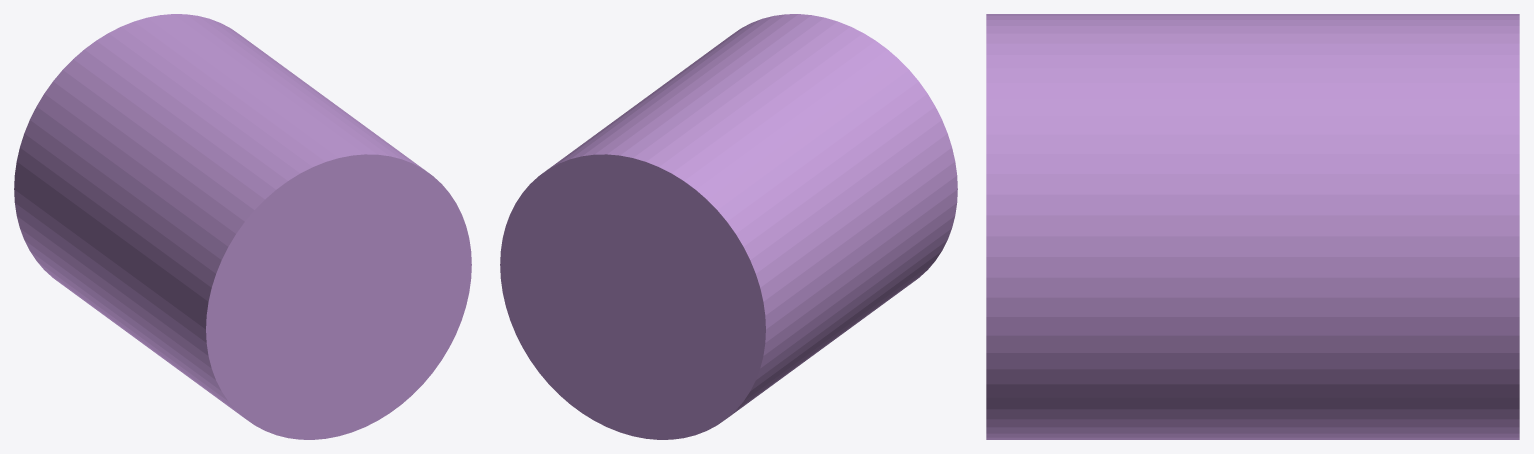
The model's file is tabung.glb.
The picture shows the model from 3 angles, left to right: view 1: azimuth 30°, elevation 25°; view 2: azimuth 150°, elevation 25°; view 3: azimuth 270°, elevation 25°; orthographic projection. The views are drawn at different scales.
Parts seen in each view (by area): view 1: world; view 2: world; view 3: world.
Boxes of the visible parts, x1,y1,x2,y2 form: world: (14,14,471,439); world: (500,14,957,439); world: (986,14,1519,439).
Bounding box in the file's own units: 0.8 × 0.8 × 1.
